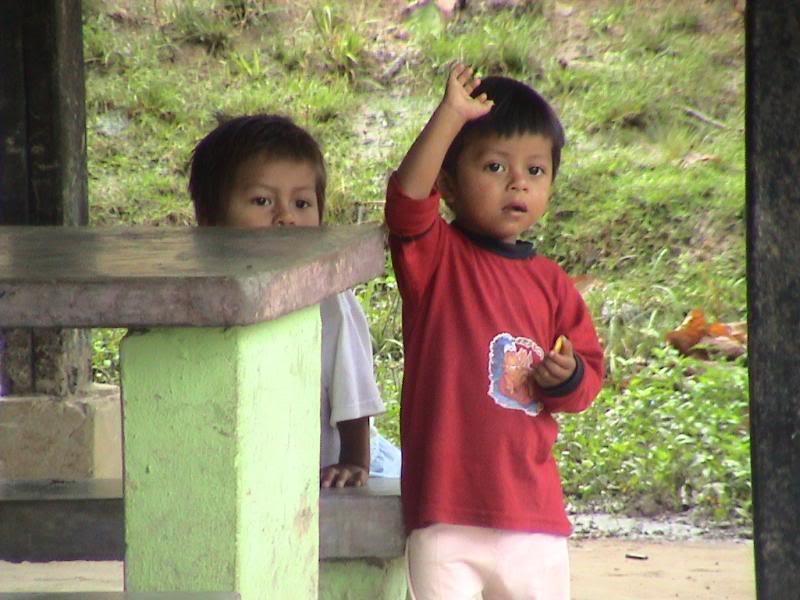person: (387, 61, 608, 600)
